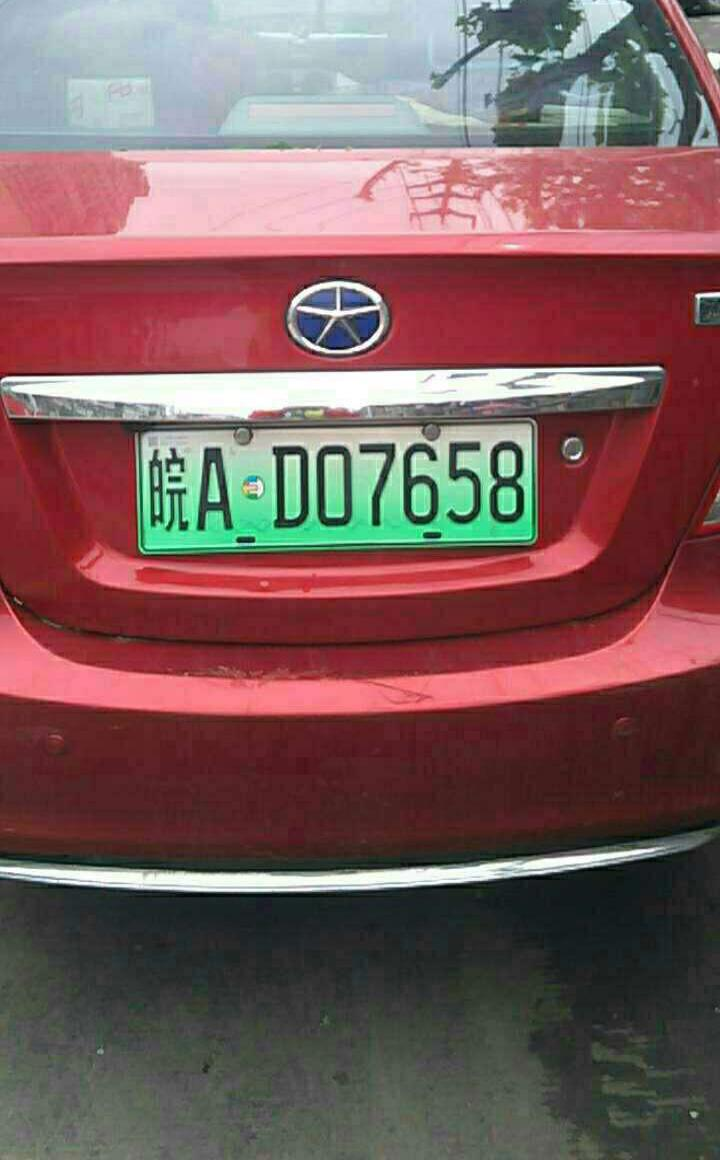car_id: (138, 426, 535, 544)
